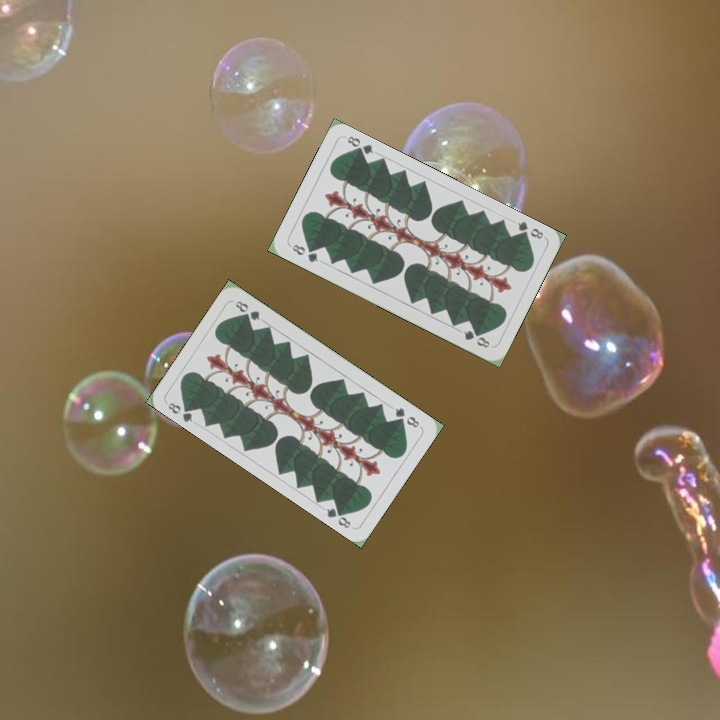G8: (164, 398, 196, 425), (287, 240, 321, 265), (391, 404, 422, 430), (513, 217, 546, 241)
